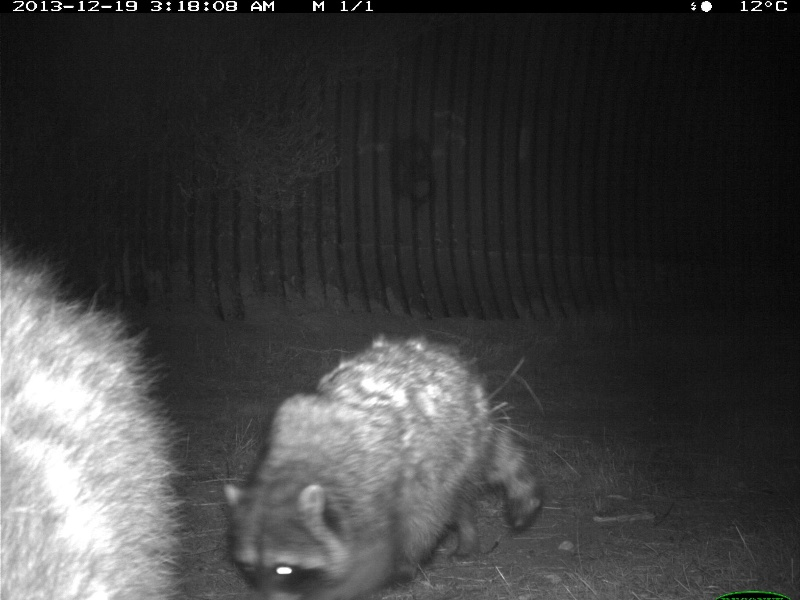raccoon: (223, 332, 545, 593)
